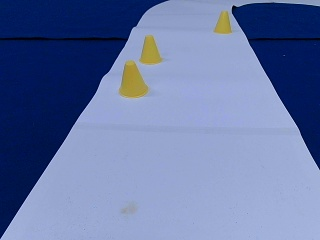cone: (118, 61, 149, 97), (139, 36, 163, 64), (214, 11, 231, 34)
